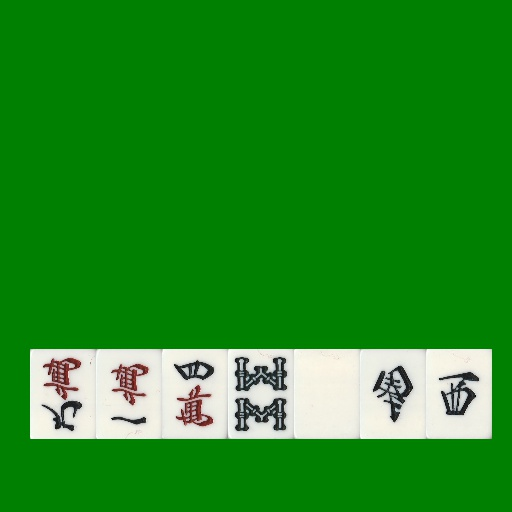1m: (96, 349, 162, 439)
4m: (162, 349, 228, 439)
8s: (228, 349, 294, 439)
9m: (30, 349, 96, 439)
south: (360, 349, 426, 439)
west: (426, 349, 492, 439)
white: (294, 349, 360, 439)
